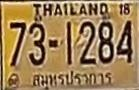1: (66, 22, 71, 62)
2: (78, 21, 94, 62)
3: (28, 22, 45, 64)
4: (116, 19, 132, 62)
7: (9, 21, 25, 65)
8: (98, 21, 113, 62)
SPK: (29, 69, 113, 90)
